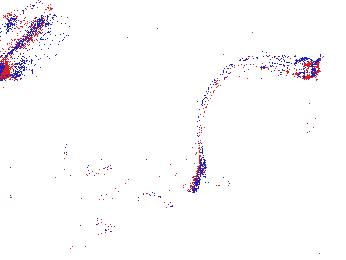X-ray fish: (35, 198, 125, 247)
glassfish: (196, 50, 320, 183), (1, 1, 67, 73)
siberian prawn: (63, 160, 223, 193), (107, 198, 229, 240)
